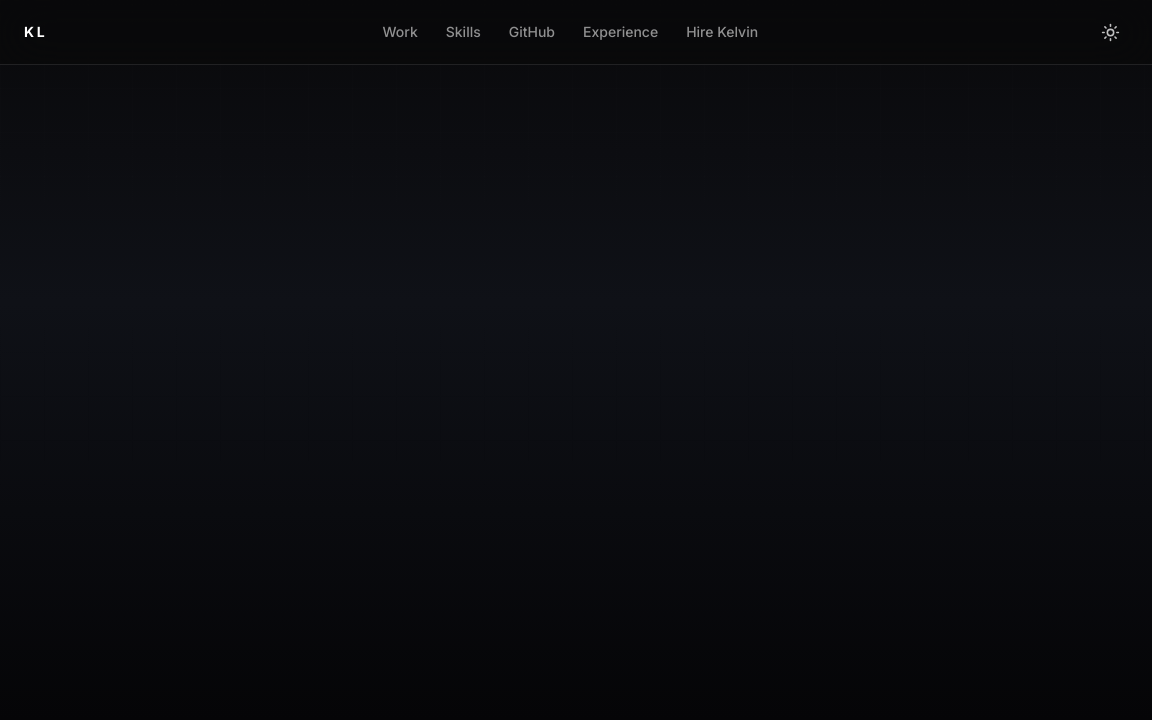
Test: Navbar theme toggle › switches between dark and light modes
Click the button named "switch to light mode": (1110, 32) [1093,14,1128,50]
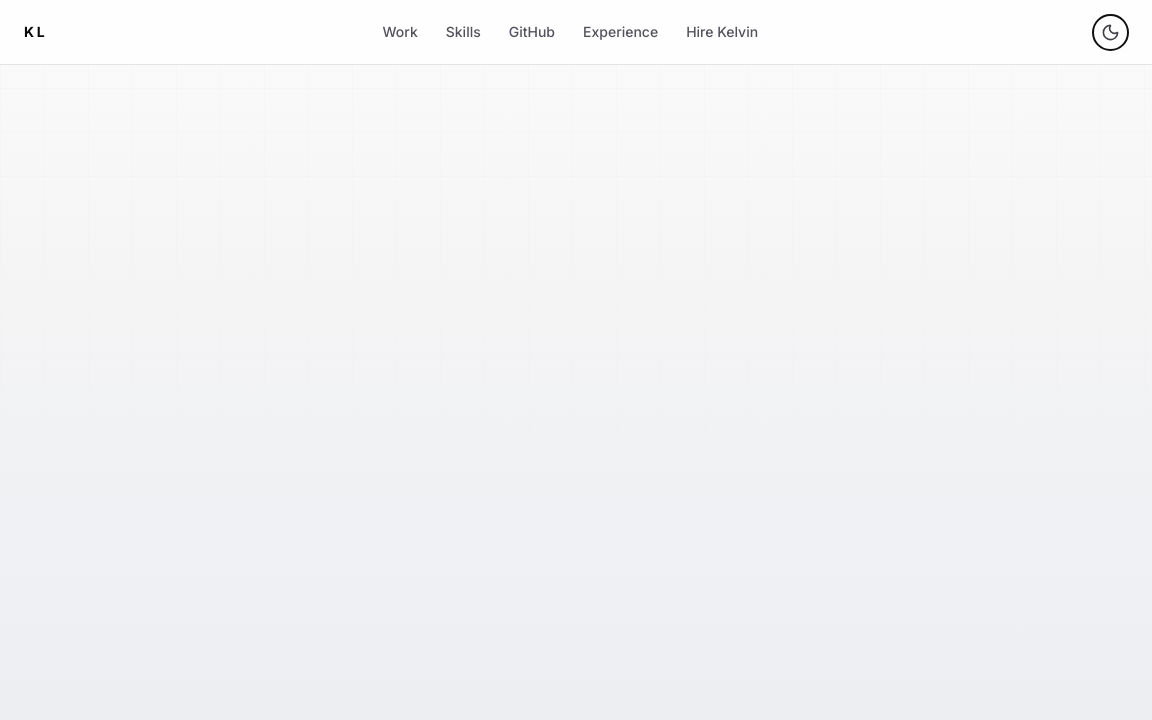
Now the button named "switch to dark mode" is shown
Click the button named "switch to dark mode": (1110, 32) [1093,14,1128,50]
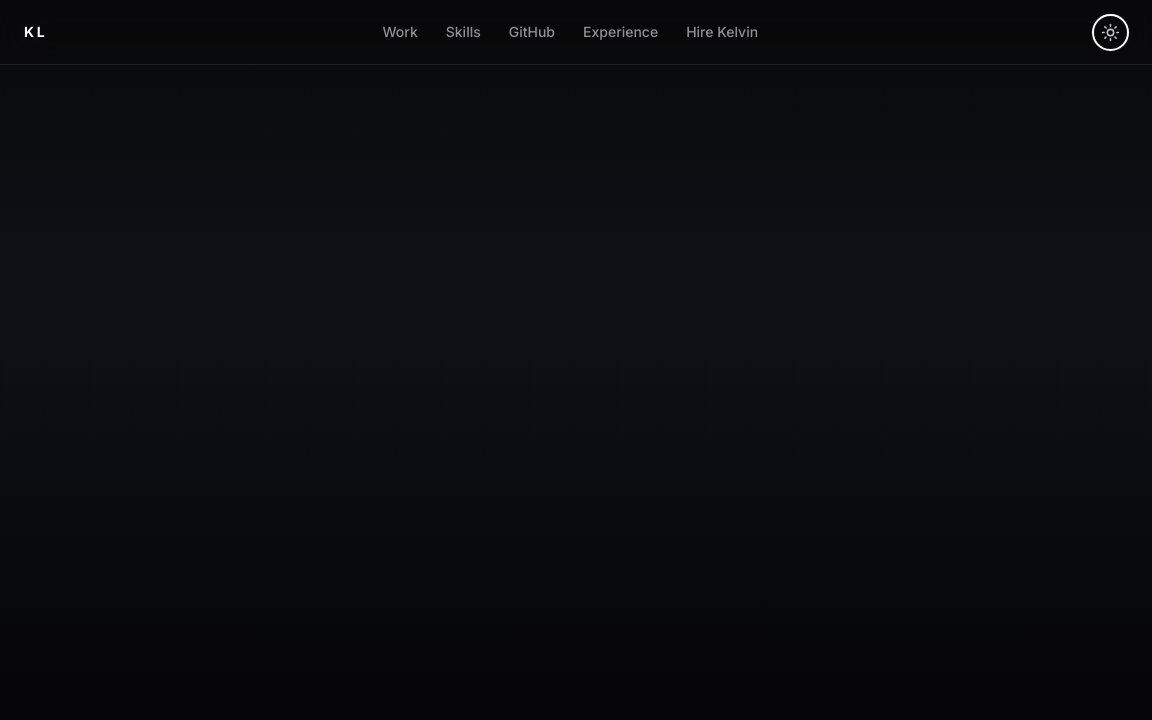
Now the button named "switch to light mode" is shown, box [1093,14,1128,50]
